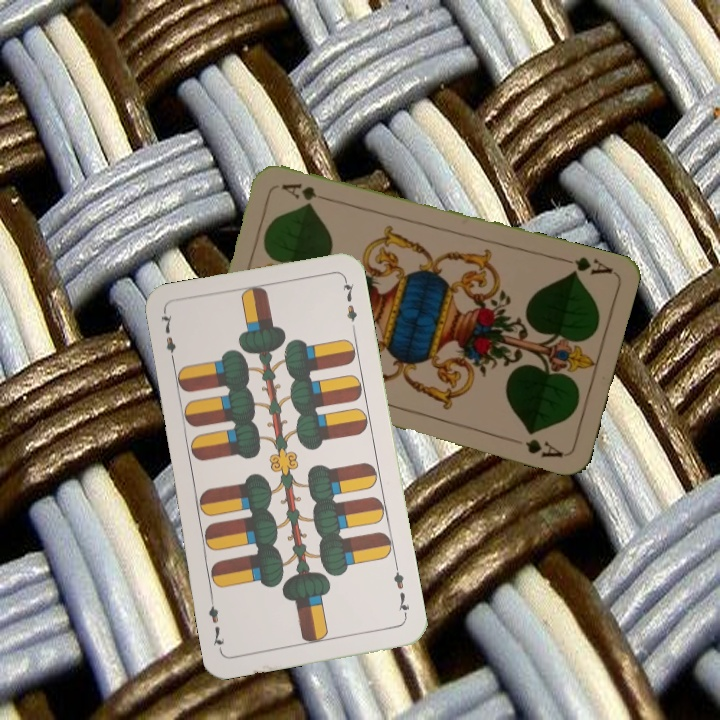E7: (390, 562, 412, 621), (157, 309, 178, 368)
GA: (556, 252, 615, 278)
